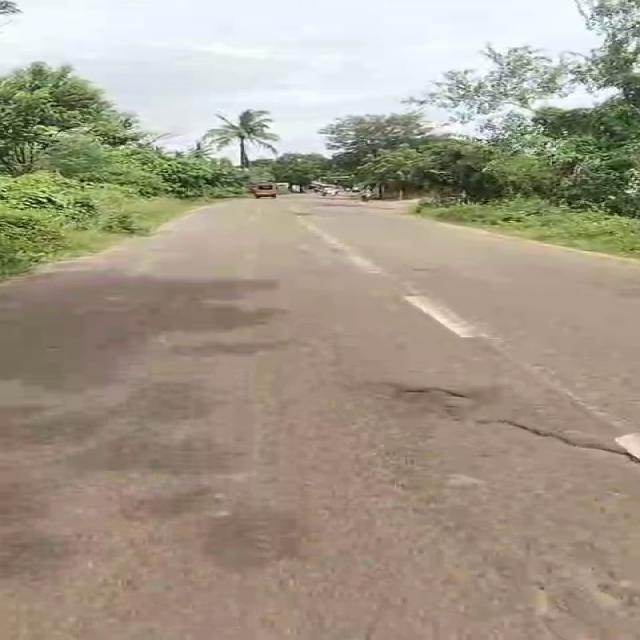pothole: (426, 421, 640, 485), (372, 383, 477, 414)
